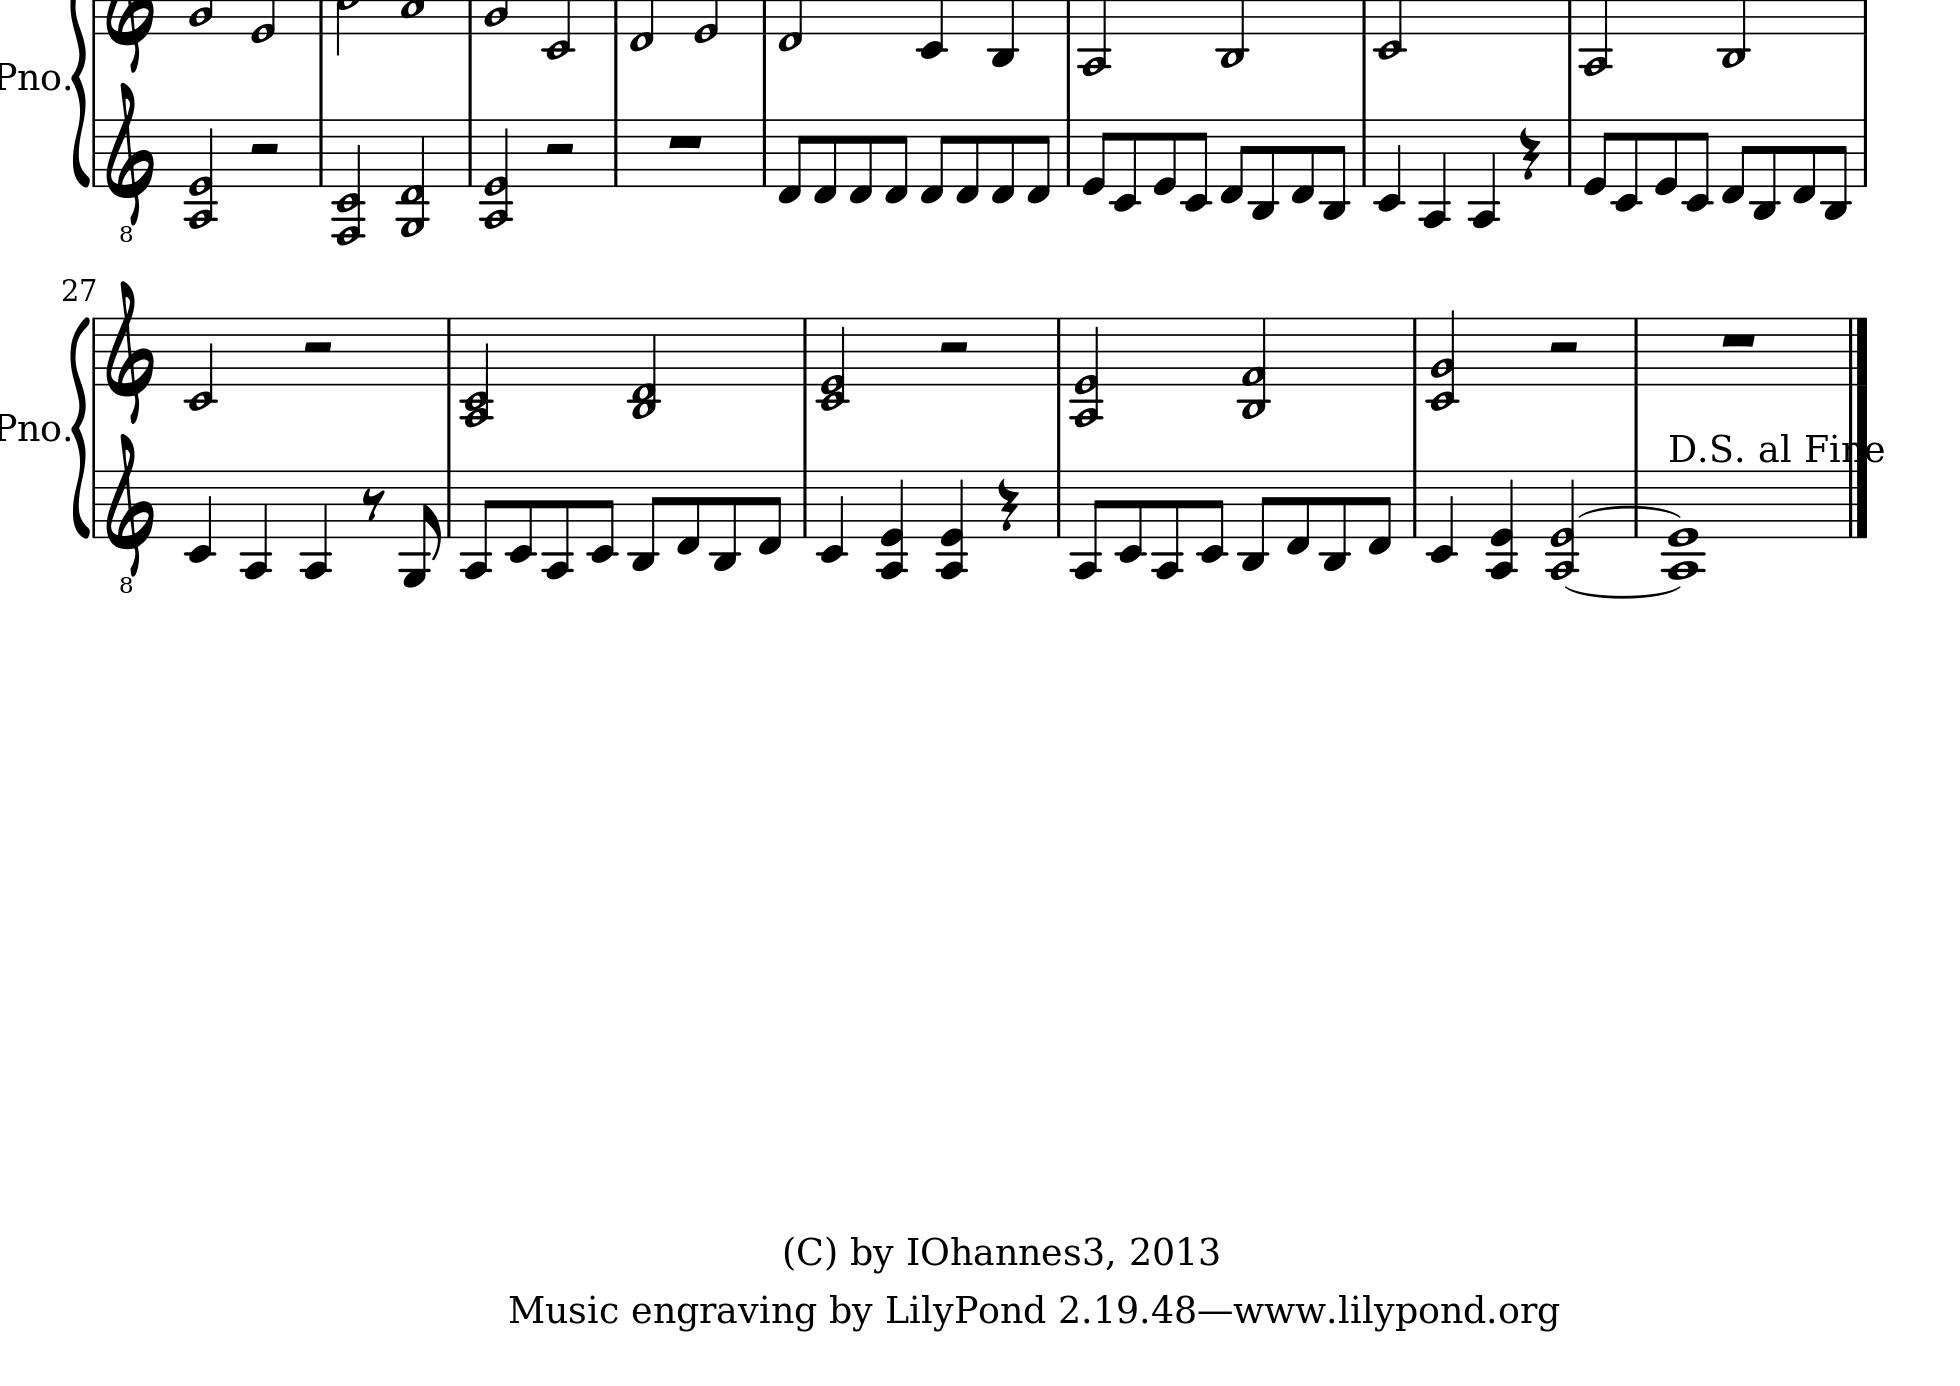1_-4_0: (1659, 469, 1707, 580)
2: (58, 276, 79, 303)
2_-2: (186, 316, 214, 411)
2_-2_0: (813, 316, 852, 412)
2_-2_2: (1425, 309, 1461, 412)
2_-3_-1: (627, 316, 663, 421)
2_-3_1: (1236, 313, 1270, 421)
2_-4_-2: (459, 316, 496, 430)
2_-4_0: (1543, 469, 1581, 582), (184, 118, 220, 232), (1068, 316, 1104, 430), (478, 118, 514, 229)
2_-5_-1: (394, 118, 430, 237)
2_-6_-2: (331, 118, 367, 247)
4_-2: (817, 466, 847, 564), (1374, 115, 1404, 211), (186, 466, 214, 565), (1428, 466, 1456, 564)
4_-4: (1419, 115, 1450, 228), (300, 468, 331, 579), (1470, 115, 1500, 228)
4_-4_0: (934, 468, 970, 580), (874, 469, 910, 580), (1486, 468, 1519, 580)
7: (79, 274, 96, 304)
8_-1: (777, 115, 808, 205), (919, 115, 951, 204), (1219, 117, 1249, 205), (1720, 117, 1750, 205), (675, 468, 703, 556), (883, 115, 910, 205), (1290, 115, 1317, 205), (1791, 115, 1818, 205), (1026, 117, 1053, 205), (757, 468, 784, 556), (1285, 468, 1312, 556), (1368, 468, 1395, 556), (813, 115, 838, 205), (849, 115, 874, 205), (991, 115, 1017, 205), (955, 117, 981, 204)
8_-2: (586, 468, 618, 564), (1197, 466, 1228, 562), (1182, 115, 1212, 211), (1110, 117, 1140, 211), (505, 469, 535, 564), (1116, 469, 1146, 564), (1683, 117, 1713, 210), (1612, 117, 1641, 211)
8_-3: (628, 468, 663, 571), (1239, 469, 1273, 571), (1320, 117, 1350, 220), (1320, 469, 1350, 571), (711, 468, 739, 571), (1821, 118, 1849, 220), (1752, 117, 1779, 220), (1251, 118, 1278, 220)
8_-4: (460, 466, 496, 580), (1071, 468, 1107, 580), (240, 466, 271, 580), (541, 466, 573, 580), (1152, 466, 1182, 580)
8_-5: (400, 468, 442, 589)
8_0: (1081, 115, 1113, 196), (1584, 117, 1614, 196), (1152, 117, 1179, 195), (1654, 115, 1680, 193)
Brace: (70, 312, 90, 540)
Final_barline: (1843, 316, 1872, 384), (1842, 469, 1869, 537)
Gclef: (103, 277, 156, 424)
Lower_Gclef: (105, 430, 156, 595), (106, 82, 157, 243)
Pno: (1, 409, 60, 445), (1, 58, 61, 93)
Rests1: (1717, 330, 1761, 349), (664, 130, 706, 150)
Rests2: (244, 138, 283, 159), (540, 138, 579, 159), (298, 337, 337, 358), (934, 337, 973, 358), (1545, 337, 1584, 358)
Rests4: (1518, 124, 1542, 181), (996, 475, 1020, 532)
Rests8: (360, 486, 387, 520)
Single_barline: (1627, 469, 1647, 537), (1050, 316, 1068, 385), (439, 471, 457, 537), (1050, 469, 1066, 538), (312, 118, 328, 186), (462, 118, 478, 186), (756, 118, 772, 186), (1627, 316, 1644, 384), (796, 471, 813, 538), (1407, 471, 1423, 538), (441, 318, 457, 384), (796, 318, 813, 384), (1407, 318, 1423, 384), (607, 118, 622, 186), (1356, 118, 1371, 186), (1563, 118, 1578, 186), (1858, 118, 1872, 187), (1062, 118, 1075, 186), (88, 319, 100, 385), (88, 120, 100, 184), (88, 471, 100, 535)
Slur: (1566, 583, 1681, 598), (1579, 505, 1674, 519)
